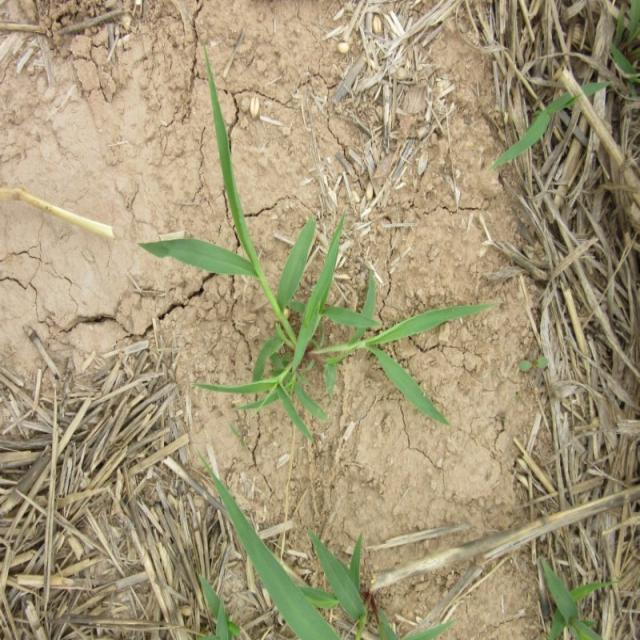bg: (160, 39, 495, 439)
